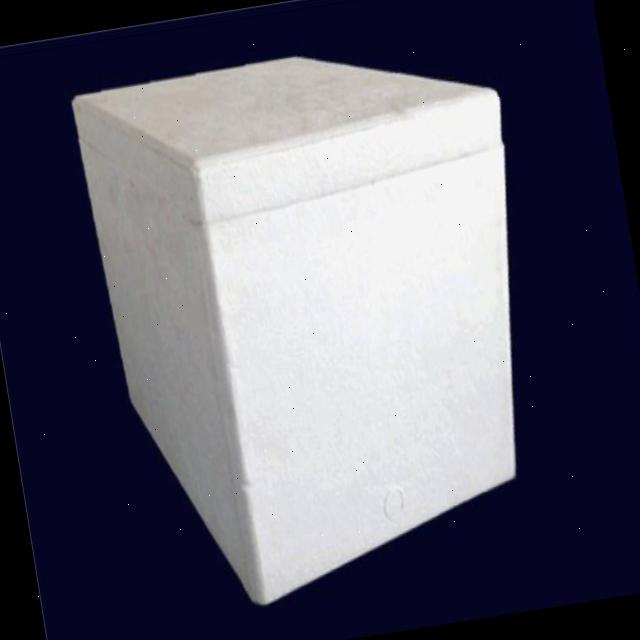styrofoam: (67, 22, 574, 624)
